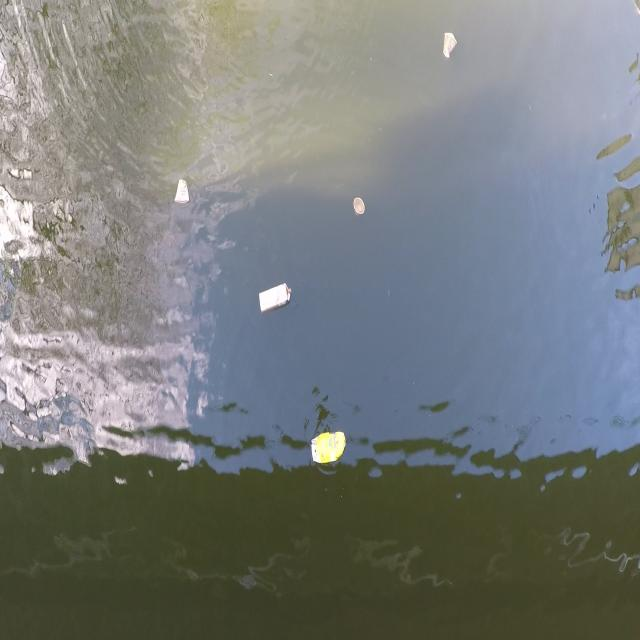Non plastique: (256, 281, 296, 321), (170, 173, 196, 212), (437, 26, 462, 61), (349, 186, 372, 224)
